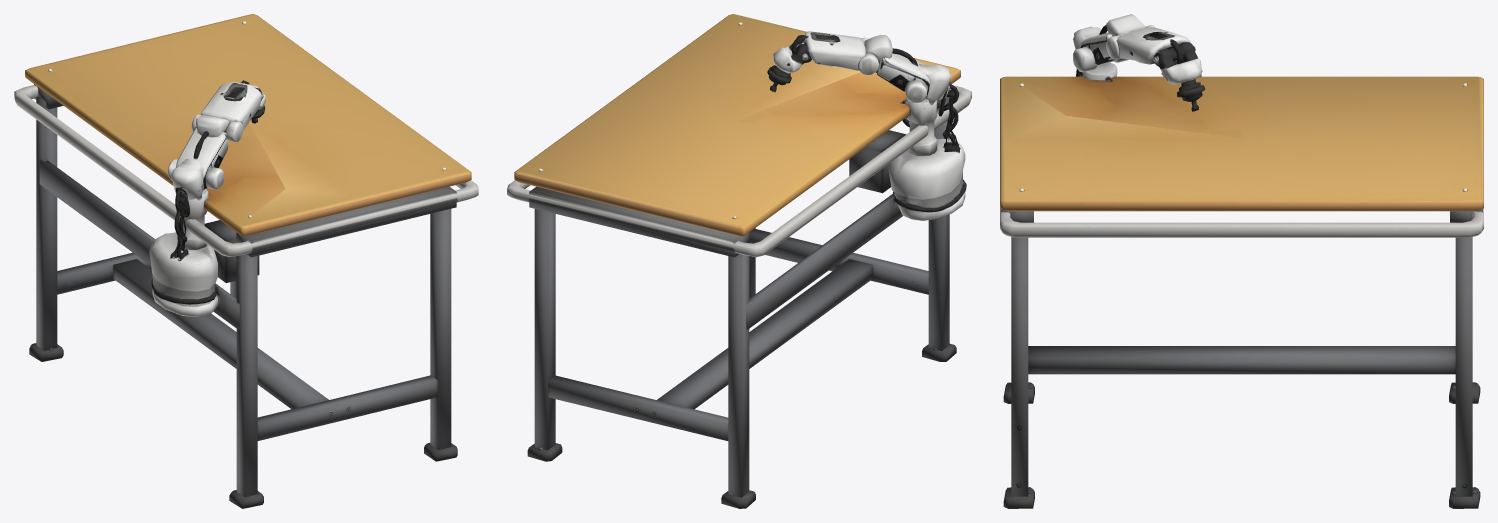
The picture shows the model from 3 angles, left to right: view 1: azimuth 30°, elevation 25°; view 2: azimuth 150°, elevation 25°; view 3: azimuth 270°, elevation 25°; orthographic projection. The views are drawn at different scales.
Parts seen in each view (by area): view 1: tripo_node_9d5e8c9f; view 2: tripo_node_9d5e8c9f; view 3: tripo_node_9d5e8c9f.
Part boxes in pixels (x1,y1,x2,y2): tripo_node_9d5e8c9f: (14, 14, 478, 508); tripo_node_9d5e8c9f: (507, 14, 971, 508); tripo_node_9d5e8c9f: (1000, 14, 1483, 508).
Size of the model in its own units: 0.7402 by 0.8926 by 0.998.
Materials: 1 (1 with a texture image).
